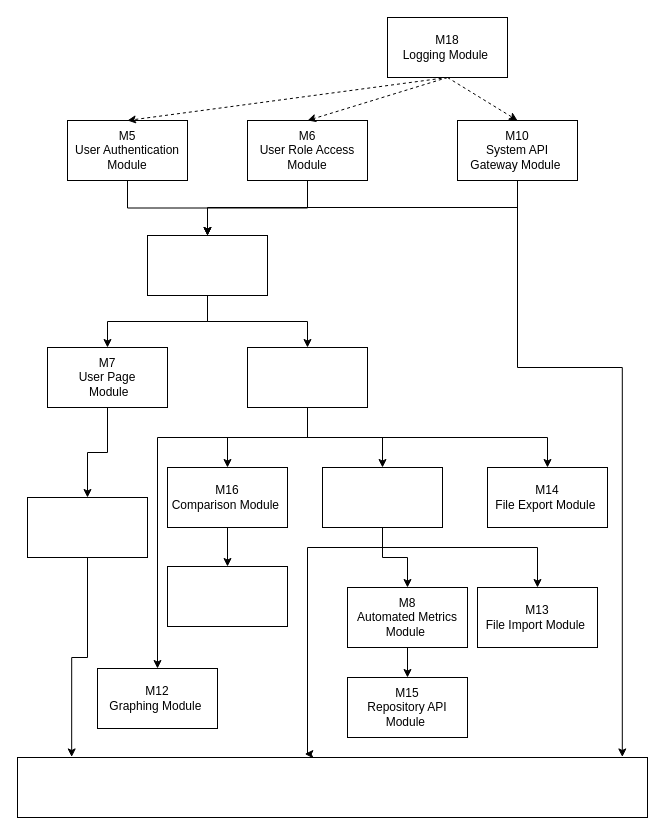
The diagram is 665 pixels wide and 835 high, and some of its shapes have lost their labels. Each missing label, with the centre of its shape:
M11 Ranking Algorithm Module: point 227,596
M17 Database Persistence Module: point 332,787
M19 Configuration Module: point 87,527
M3 Application UI Module: point 207,265
M4 Data Edit Module: point 382,497
M9 Domains Page Module: point 307,377
